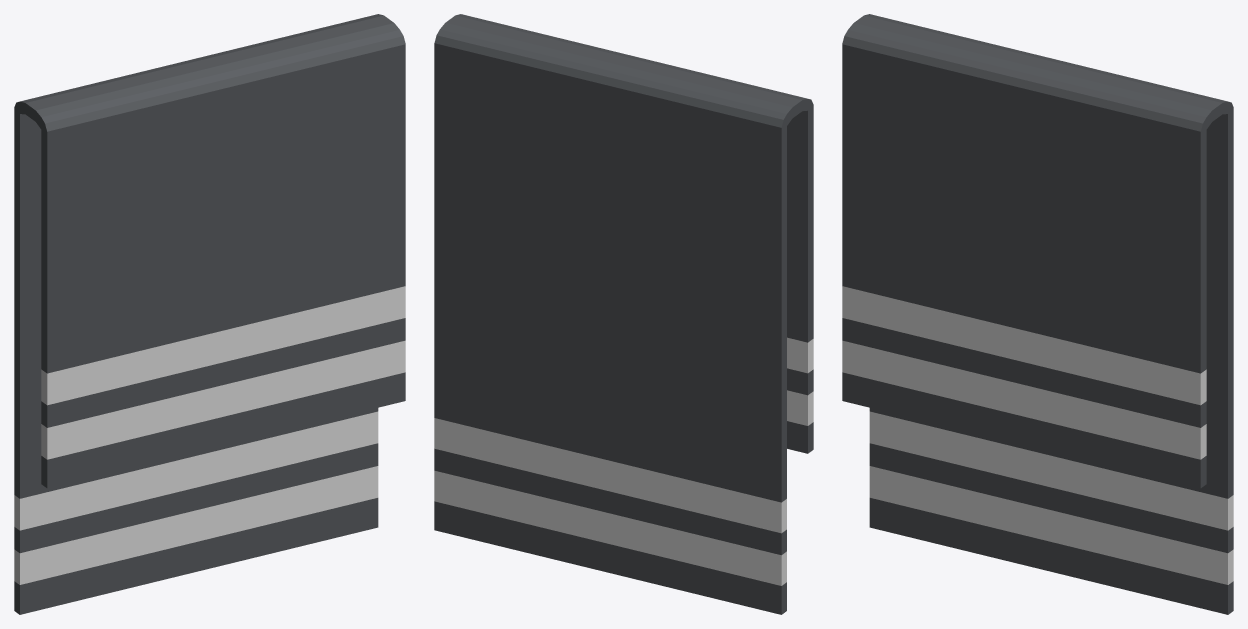
The model's file is Towel_06.fbx.
3 views of the same model, side by side, from view 1: azimuth 30°, elevation 25°; view 2: azimuth 150°, elevation 25°; view 3: azimuth 330°, elevation 25° (orthographic). The views are drawn at different scales.
Parts seen in each view (by area): view 1: Towel_06; view 2: Towel_06; view 3: Towel_06.
Part boxes in pixels (x1,y1,x2,y2): Towel_06: (14, 14, 405, 614); Towel_06: (434, 14, 813, 614); Towel_06: (842, 14, 1233, 614).
Size of the model in its own units: 35.79 by 49.22 by 5.7.
